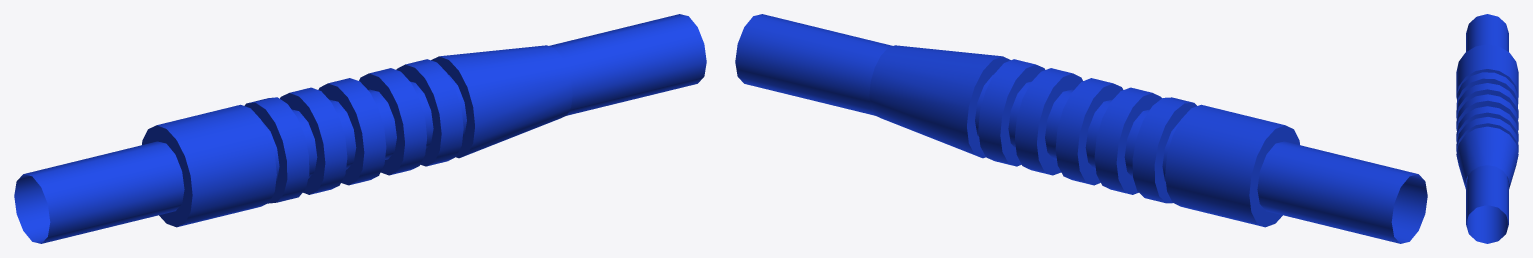
The model's file is pipe9.fbx.
The picture shows the model from 3 angles, left to right: view 1: azimuth 30°, elevation 25°; view 2: azimuth 150°, elevation 25°; view 3: azimuth 270°, elevation 25°; orthographic projection. The views are drawn at different scales.
Visible parts, largest first — view 1: 1; view 2: 1; view 3: 1.
Part boxes in pixels (x1,y1,x2,y2): 1: [14, 14, 706, 243]; 1: [735, 14, 1427, 243]; 1: [1456, 14, 1518, 243].
Size of the model in its own units: 32359 by 4461 by 4461.
